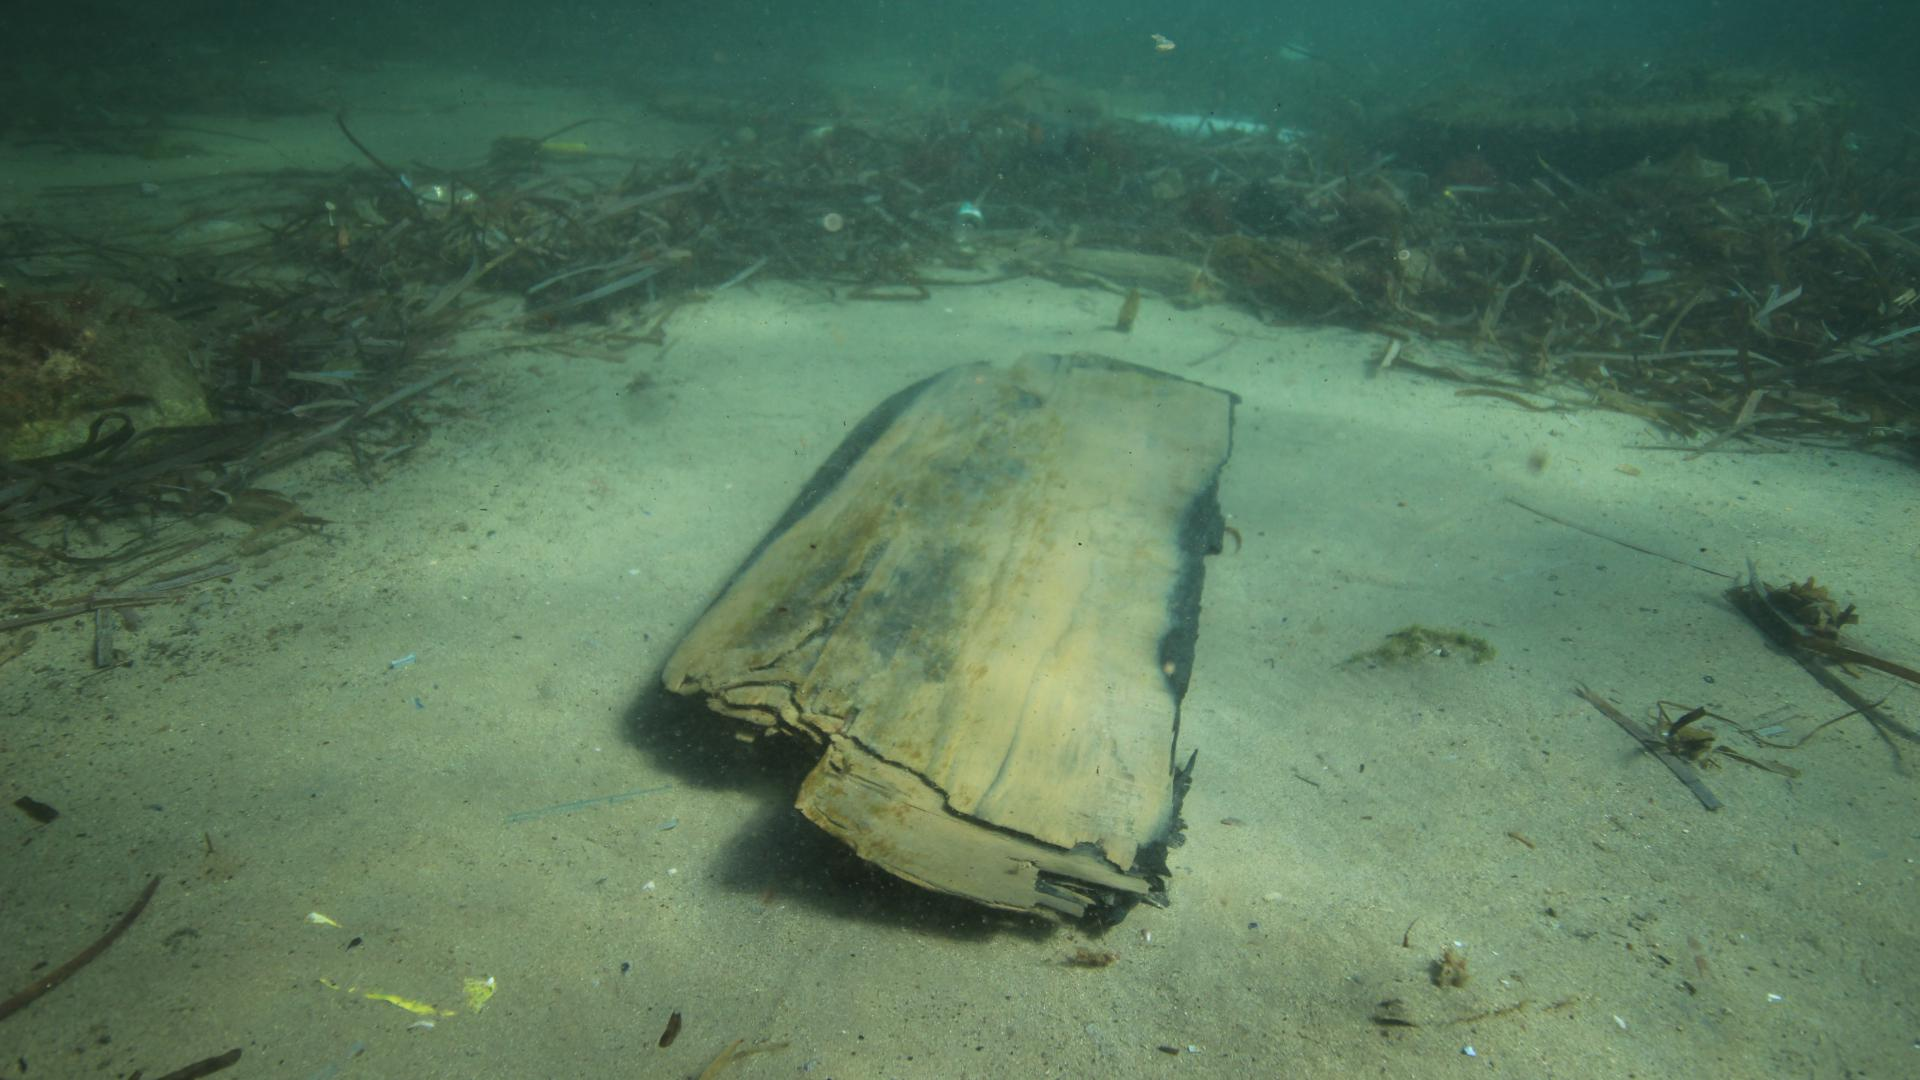wood: (658, 352, 1240, 924)
